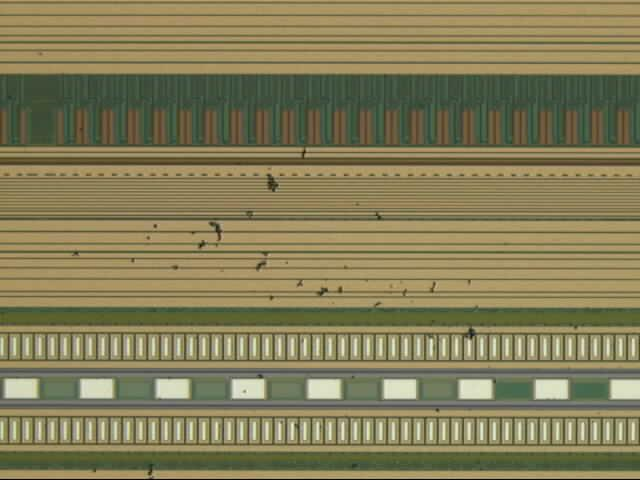PO CONTAMINATION: (6, 49, 501, 480)
